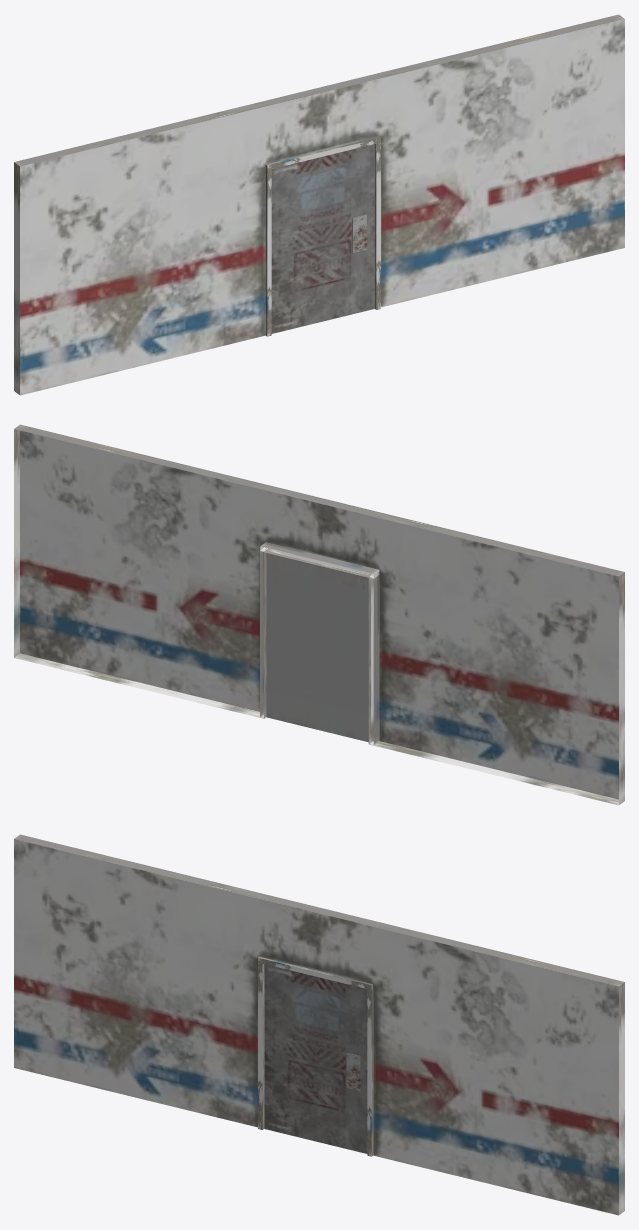
File: horror_wall_clean-opt.glb
3 renders of one model, top to bottom at view 1: azimuth 30°, elevation 25°; view 2: azimuth 150°, elevation 25°; view 3: azimuth 330°, elevation 25°, orthographic.
Visible parts, largest first — view 1: defaultMaterial; view 2: defaultMaterial; view 3: defaultMaterial.
Boxes of the visible parts, <box> form: defaultMaterial: <box>14,14,624,395</box>; defaultMaterial: <box>14,424,624,805</box>; defaultMaterial: <box>14,834,624,1215</box>.
Size of the model in its own units: 2 by 0.7235 by 0.0442.
1 material, 1 textured.
